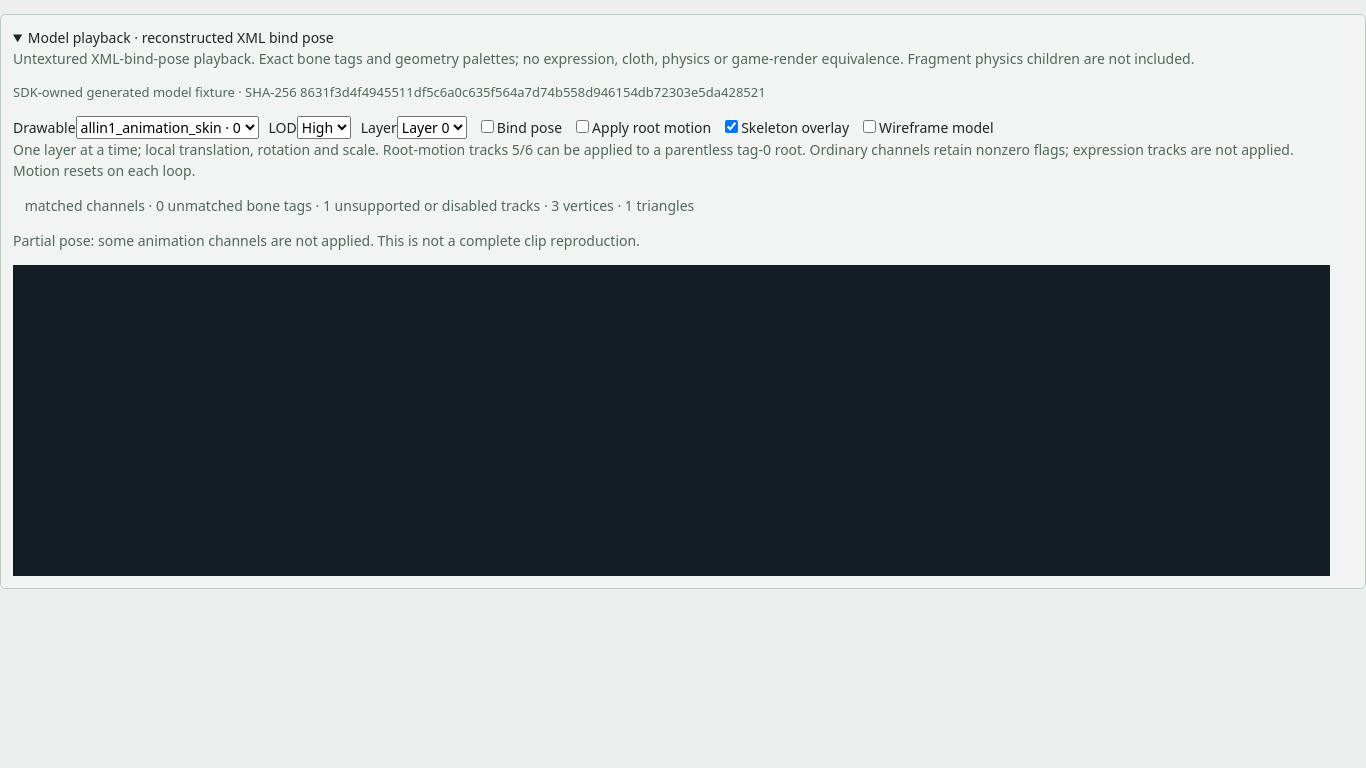
Scenario: root-motion preview is explicit and changes coverage only when enabled
This screenshot has width=1366, height=768.
Check: the text named "Model binding coverage" shows "2 matched channels", box [13, 196, 694, 214]
Click the checkbox labelled "Apply root motion" at (583, 126), box [576, 120, 589, 132]
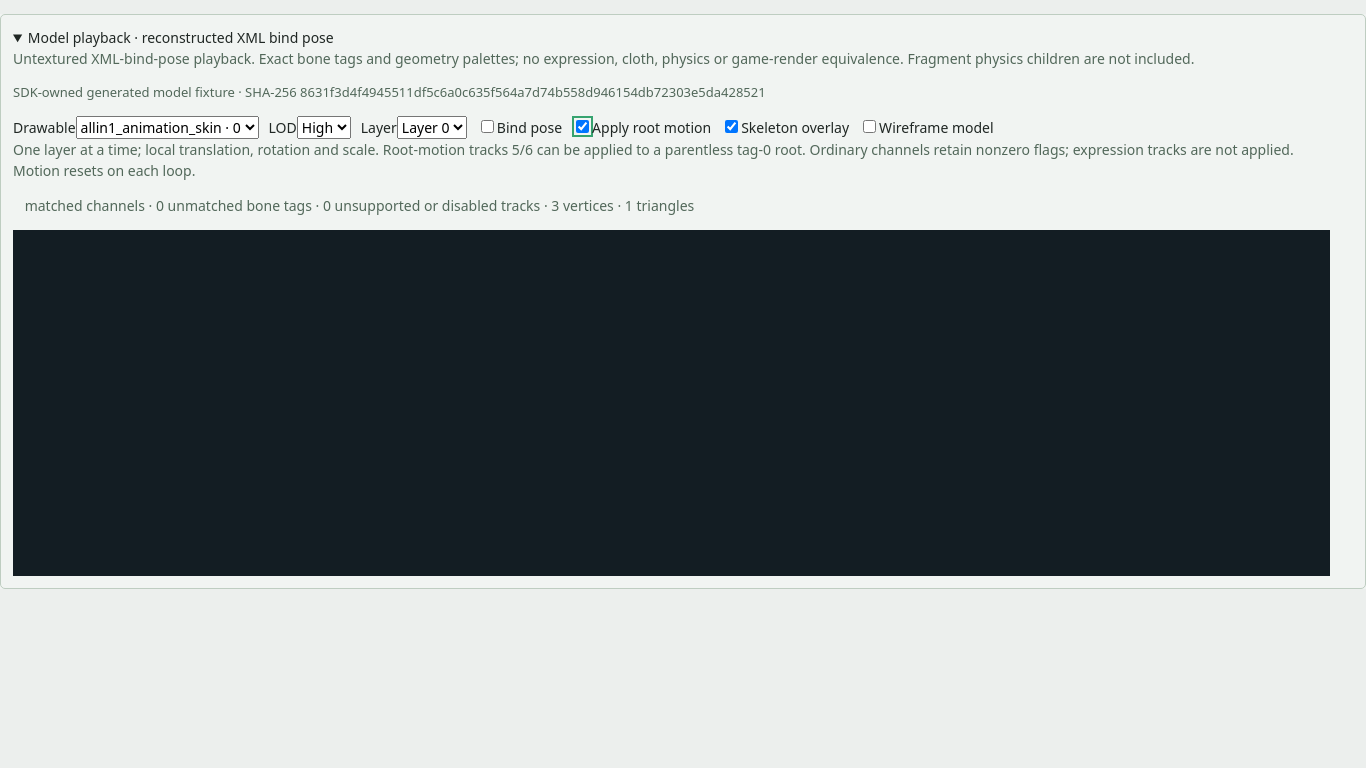
Check: the text named "Model binding coverage" shows "3 matched channels", box [13, 196, 694, 214]
